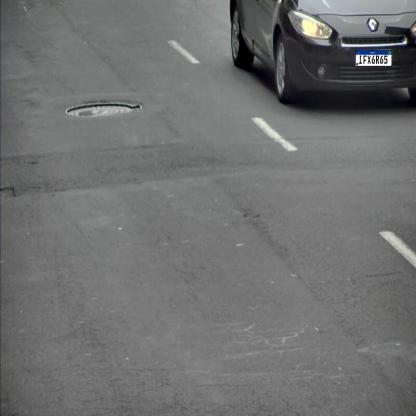PlacaM: (355, 50, 392, 66)
